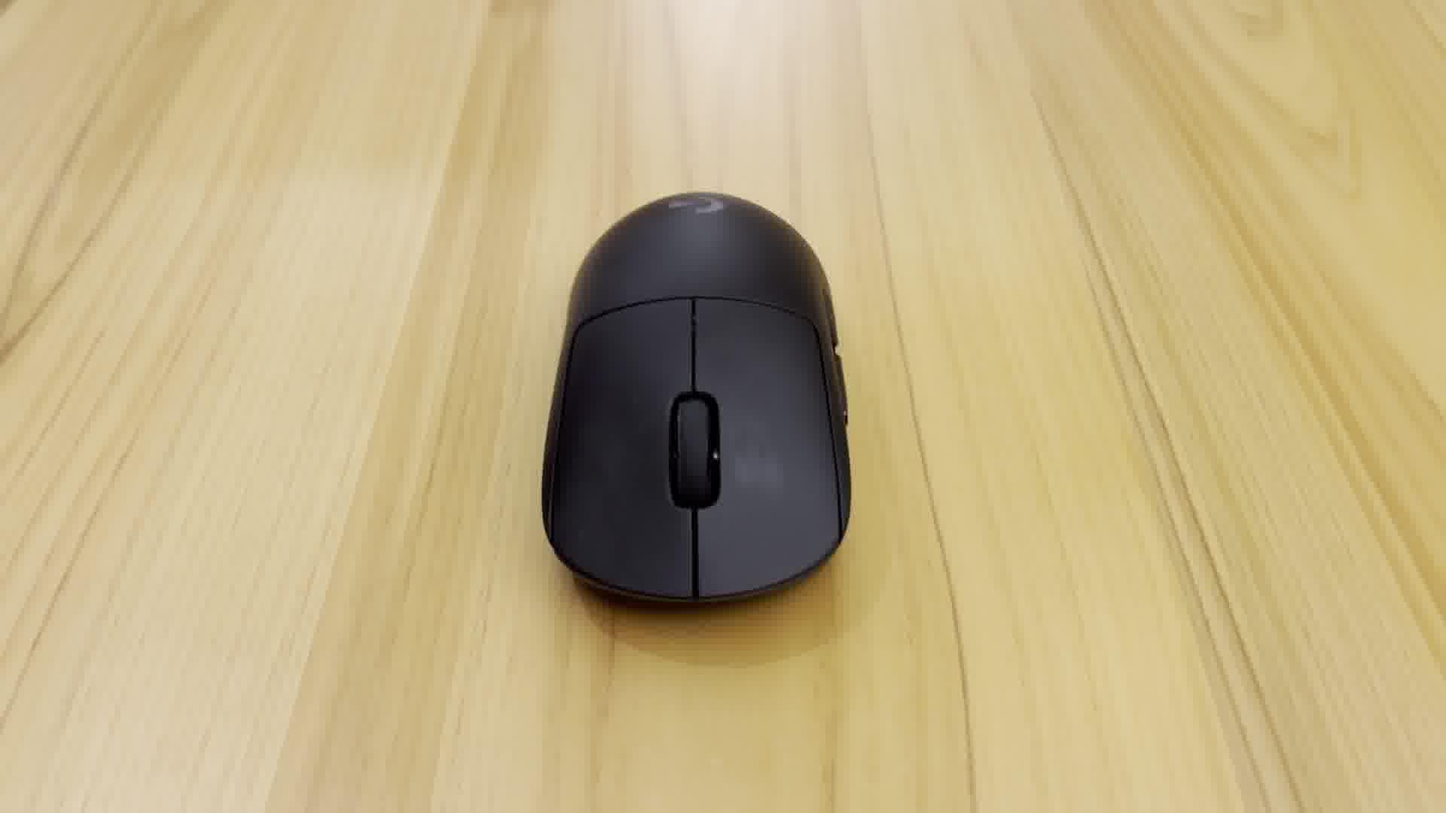logicool: (534, 182, 865, 633)
